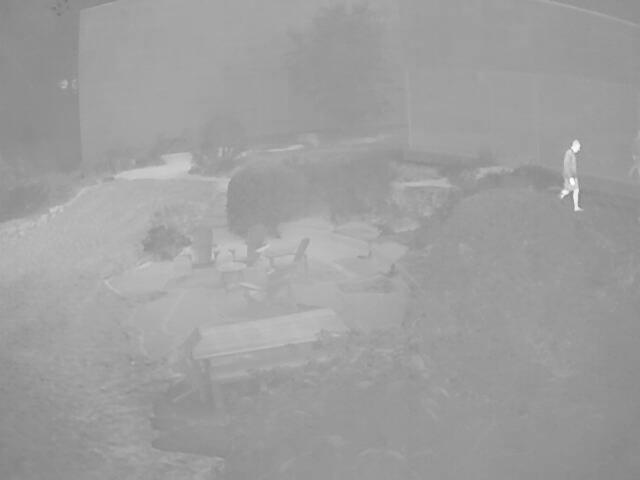person: (558, 138, 586, 212)
